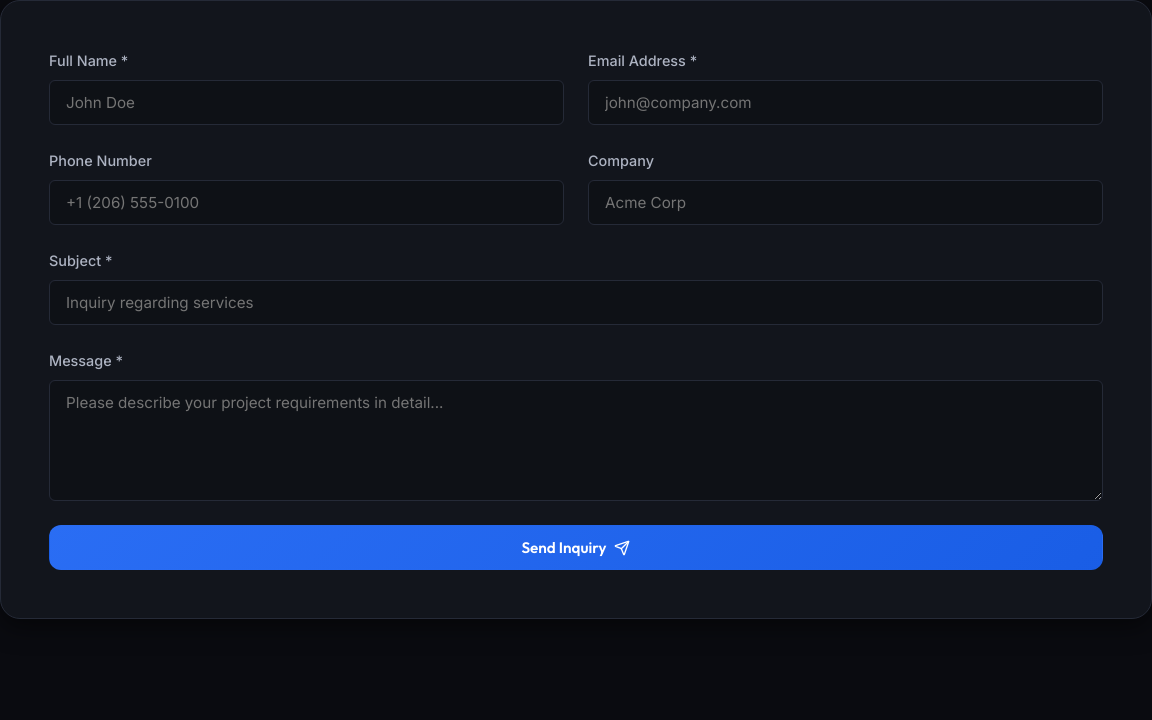
it: ContactForm Component › displays inline validation errors on empty form submissions
Step 1. Click the button "Send Inquiry" → (576, 548), box [49, 525, 1103, 570]
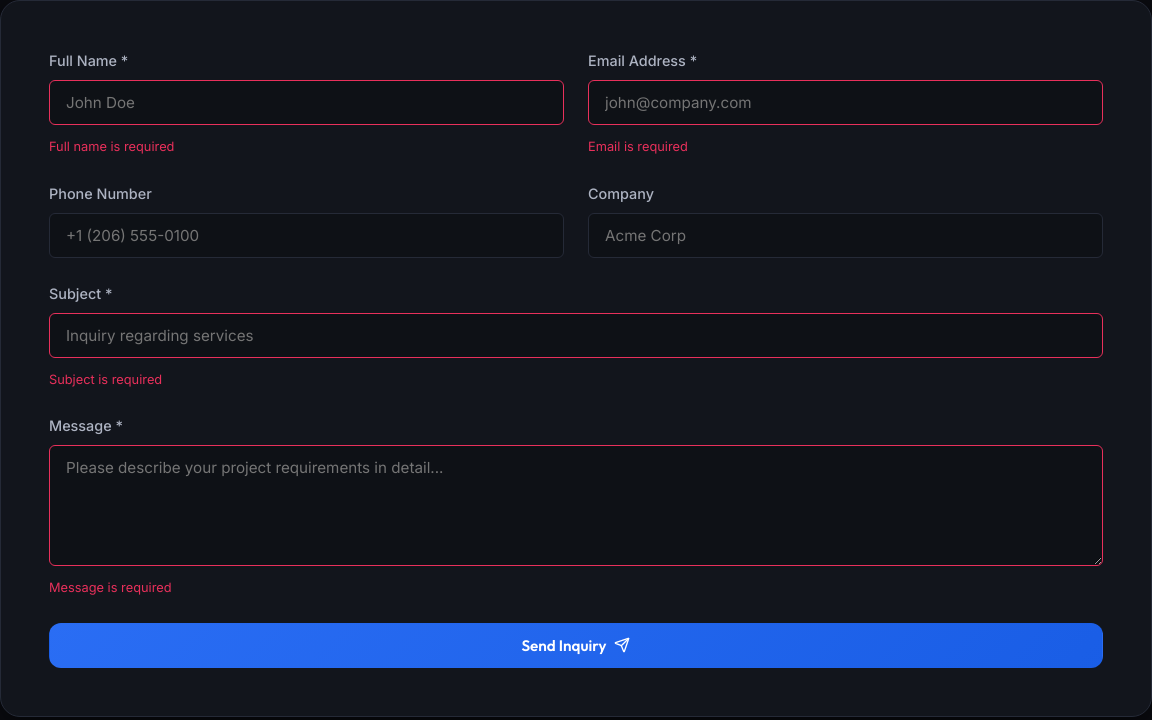
Now the text "Full name is required" is shown, box [49, 139, 174, 154]
Now the text "Email is required" is shown, box [588, 139, 688, 154]
Now the text "Subject is required" is shown, box [49, 372, 162, 387]
